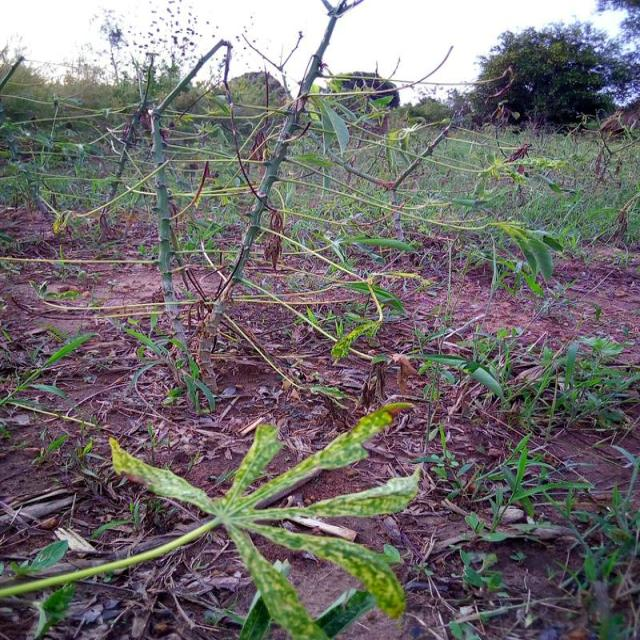cassava leaf: (4, 398, 422, 638)
